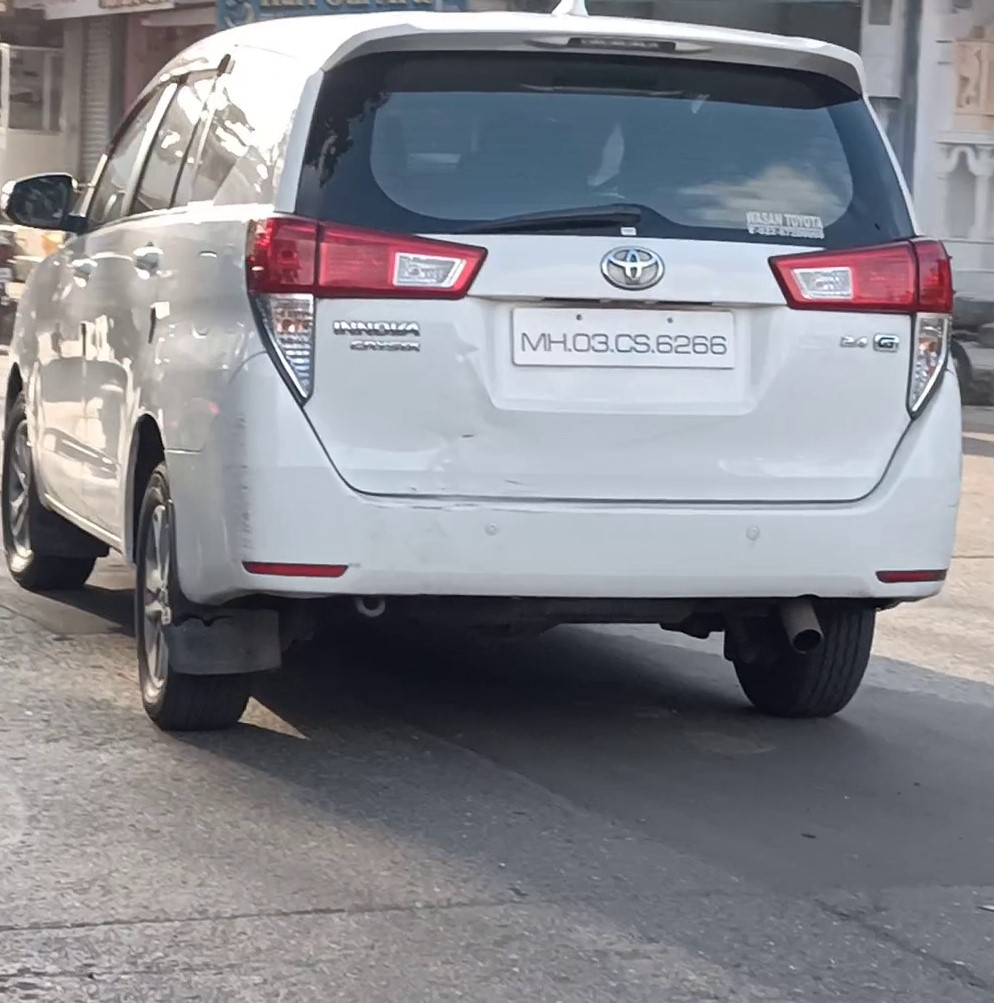MH03CS6266: (508, 302, 741, 369)
